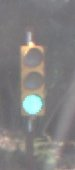Green: (22, 39, 44, 117)
